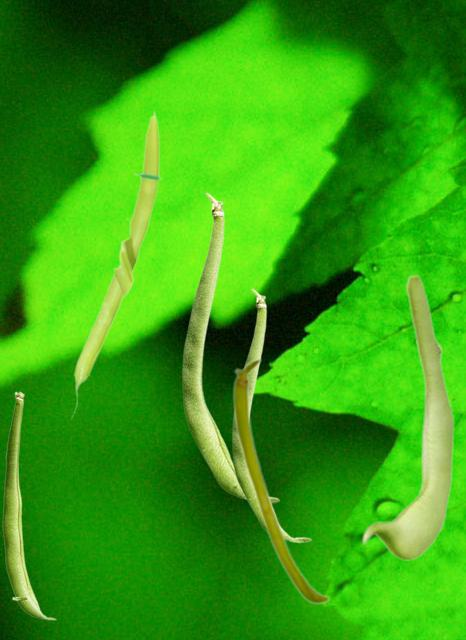french_bean: (182, 192, 279, 503), (70, 108, 162, 419), (361, 273, 453, 559), (232, 357, 329, 604), (232, 288, 311, 542), (2, 391, 56, 619)
